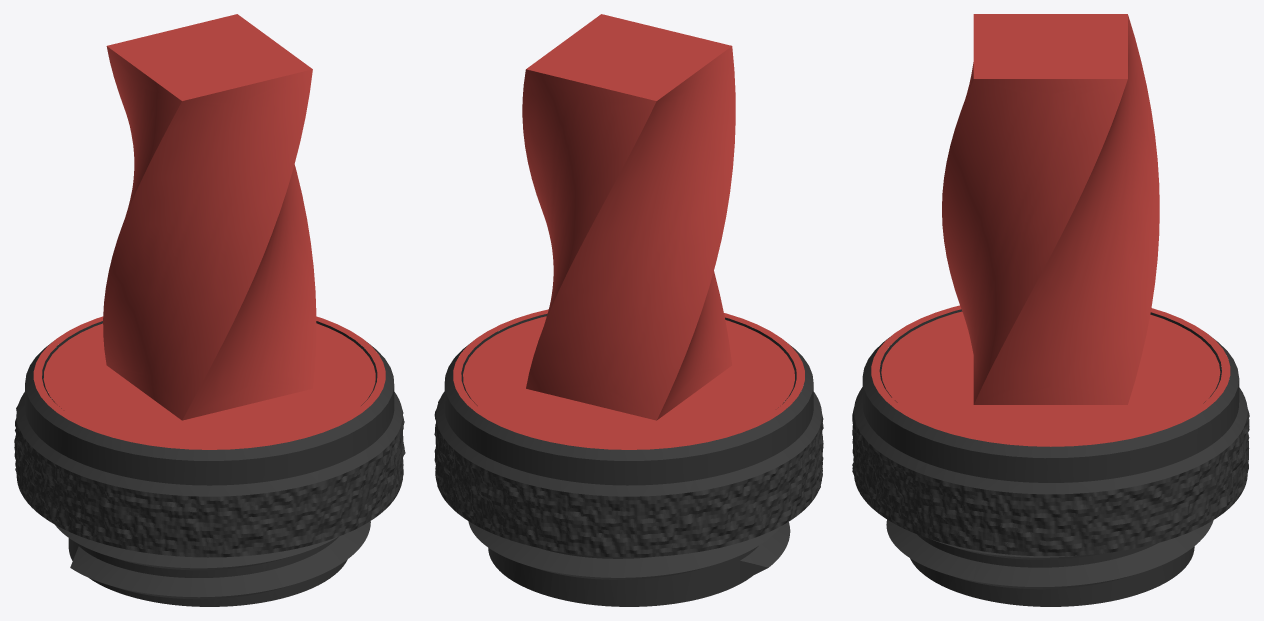
File: ficha_roja.glb
The picture shows the model from 3 angles, left to right: view 1: azimuth 30°, elevation 25°; view 2: azimuth 150°, elevation 25°; view 3: azimuth 270°, elevation 25°; orthographic projection. The views are drawn at different scales.
Visible parts, largest first — view 1: Ficha_cuerpo, Ficha_base; view 2: Ficha_cuerpo, Ficha_base; view 3: Ficha_cuerpo, Ficha_base.
Part boxes in pixels (left/top/right/bottom): Ficha_cuerpo: left=33, top=14, right=385, bottom=449; Ficha_base: left=14, top=321, right=405, bottom=606; Ficha_cuerpo: left=453, top=14, right=804, bottom=449; Ficha_base: left=434, top=313, right=823, bottom=606; Ficha_cuerpo: left=871, top=14, right=1230, bottom=446; Ficha_base: left=852, top=309, right=1249, bottom=606.
Size of the model in its own units: 0.0233 by 0.0322 by 0.0232.
